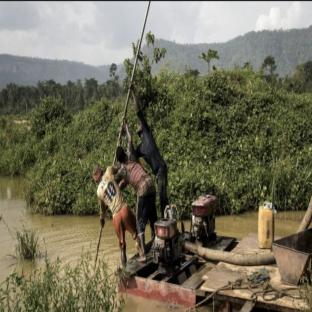Person: (127, 85, 173, 225), (91, 167, 135, 259)
ProcessingEquipment: (151, 204, 185, 272), (187, 192, 221, 247)
